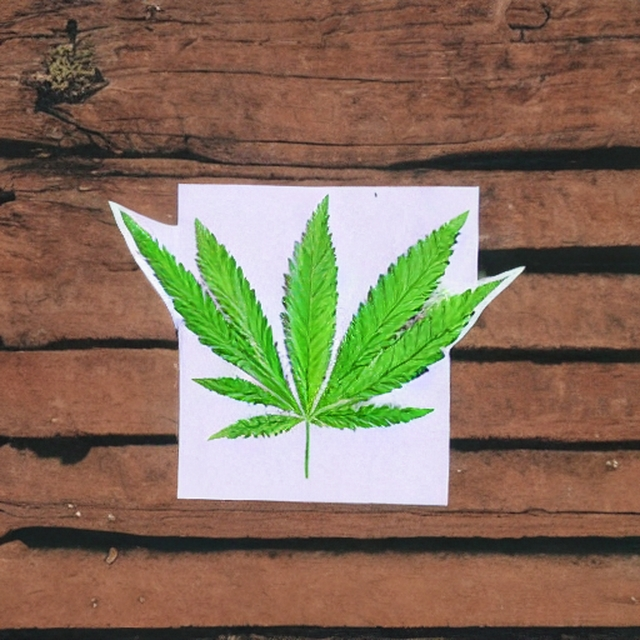Marijuana Leaf: (107, 190, 525, 477)
